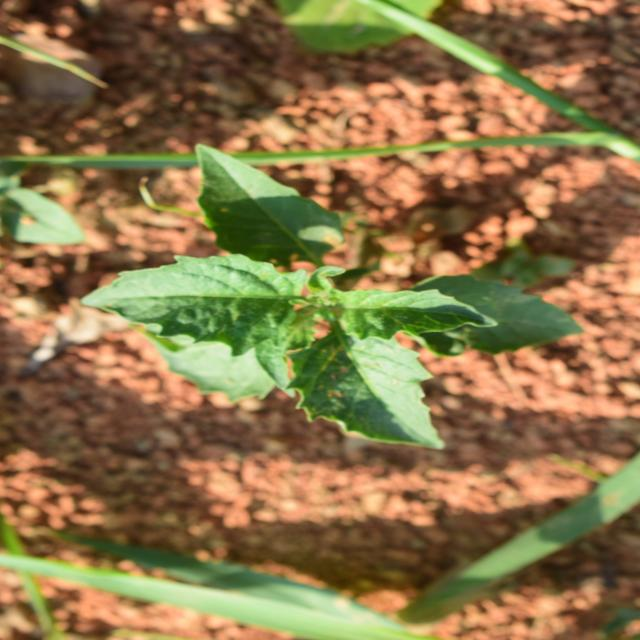Black_nightshade: (200, 90, 455, 571)
